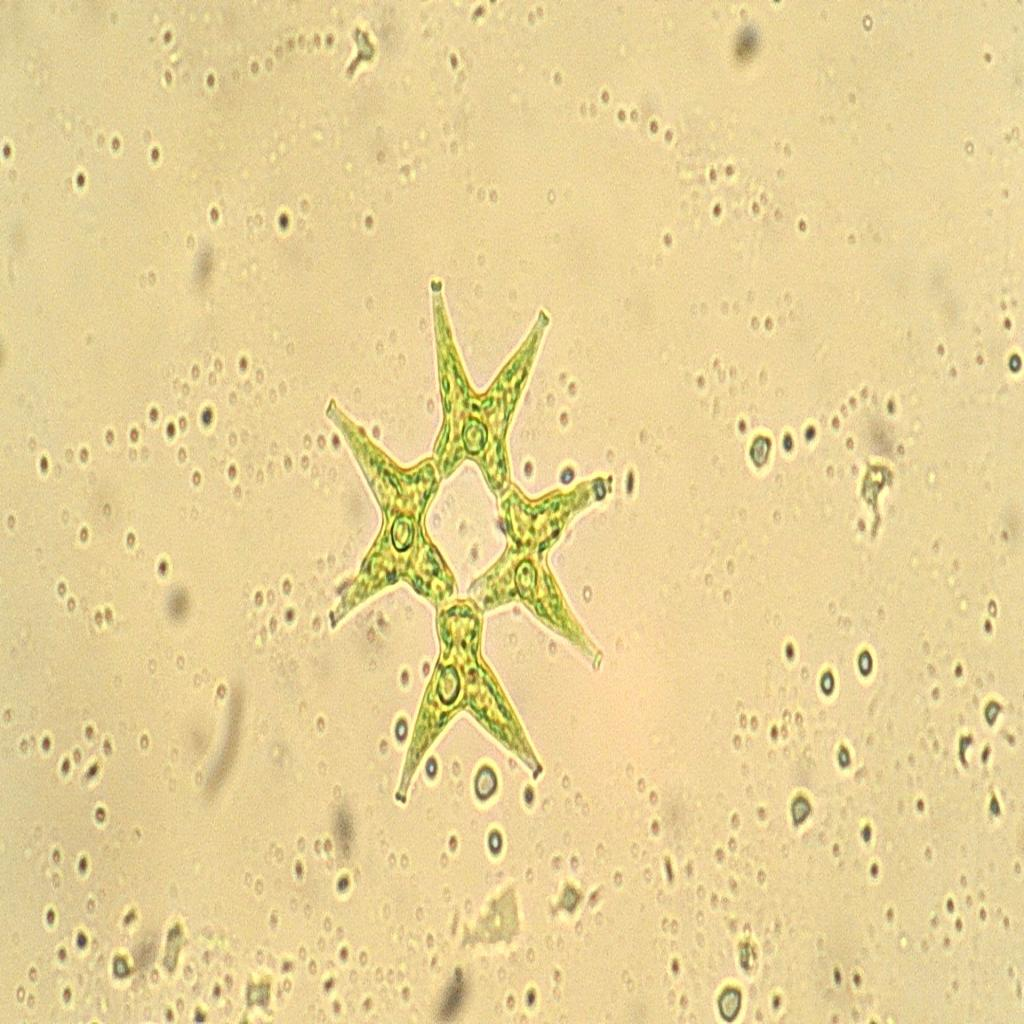Pediastrum_CT: (317, 244, 621, 815)
